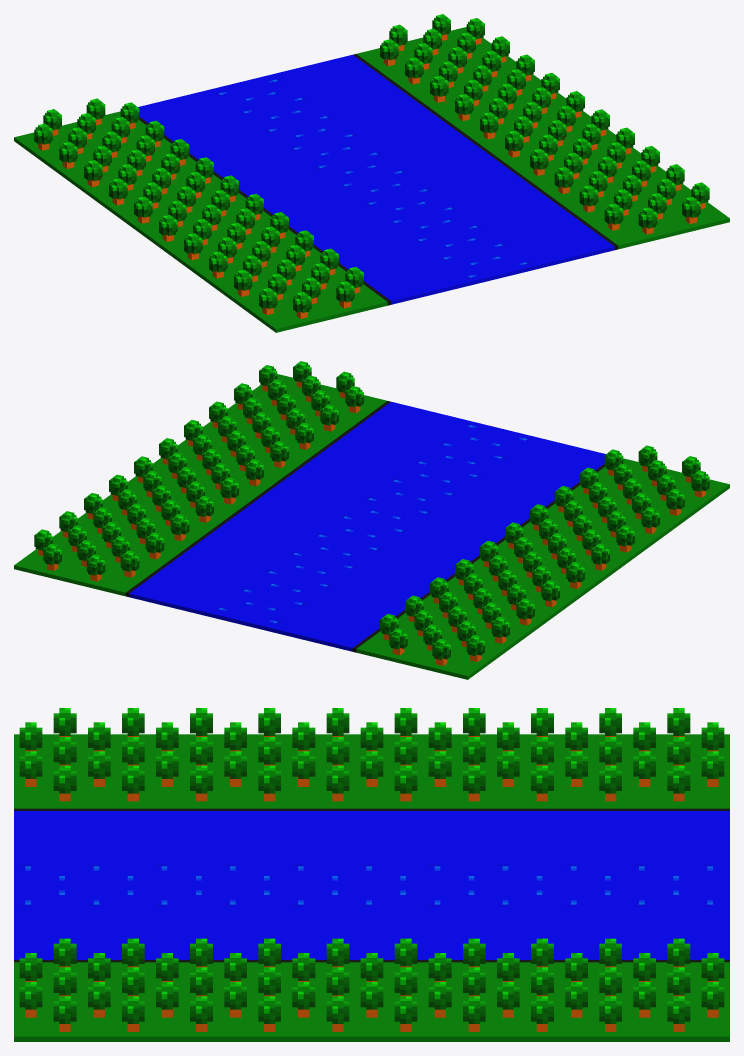
File: stage1.obj
The picture shows the model from 3 angles, top to bottom: view 1: azimuth 30°, elevation 25°; view 2: azimuth 150°, elevation 25°; view 3: azimuth 270°, elevation 25°; orthographic projection. The views are drawn at different scales.
Bounding box in the file's own units: 126 × 7 × 126.
1 material, 1 textured.
